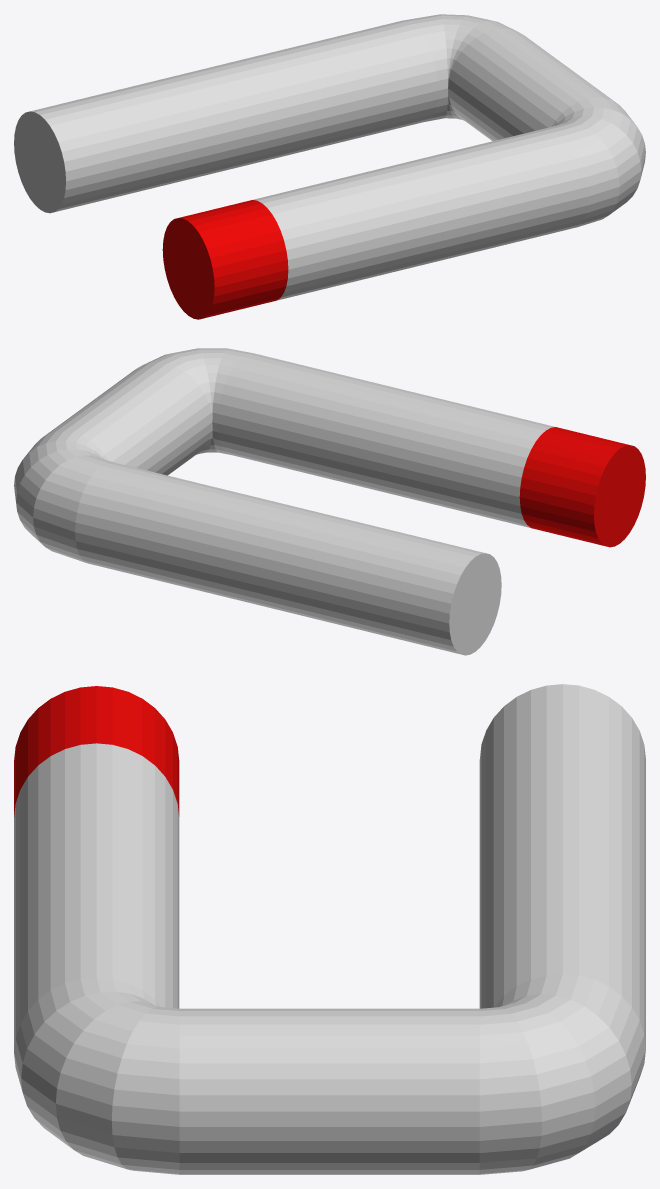
File: Circuit3.fbx
3 renders of one model, top to bottom at view 1: azimuth 30°, elevation 25°; view 2: azimuth 150°, elevation 25°; view 3: azimuth 270°, elevation 25°, orthographic. The views are drawn at different scales.
Visible parts, largest first — view 1: Trial3; view 2: Trial3; view 3: Trial3.
Boxes of the visible parts, bbox=[...] form: Trial3: bbox=[14, 14, 645, 319]; Trial3: bbox=[14, 348, 645, 655]; Trial3: bbox=[14, 684, 645, 1174].
Size of the model in its own units: 172 by 32.96 by 125.
